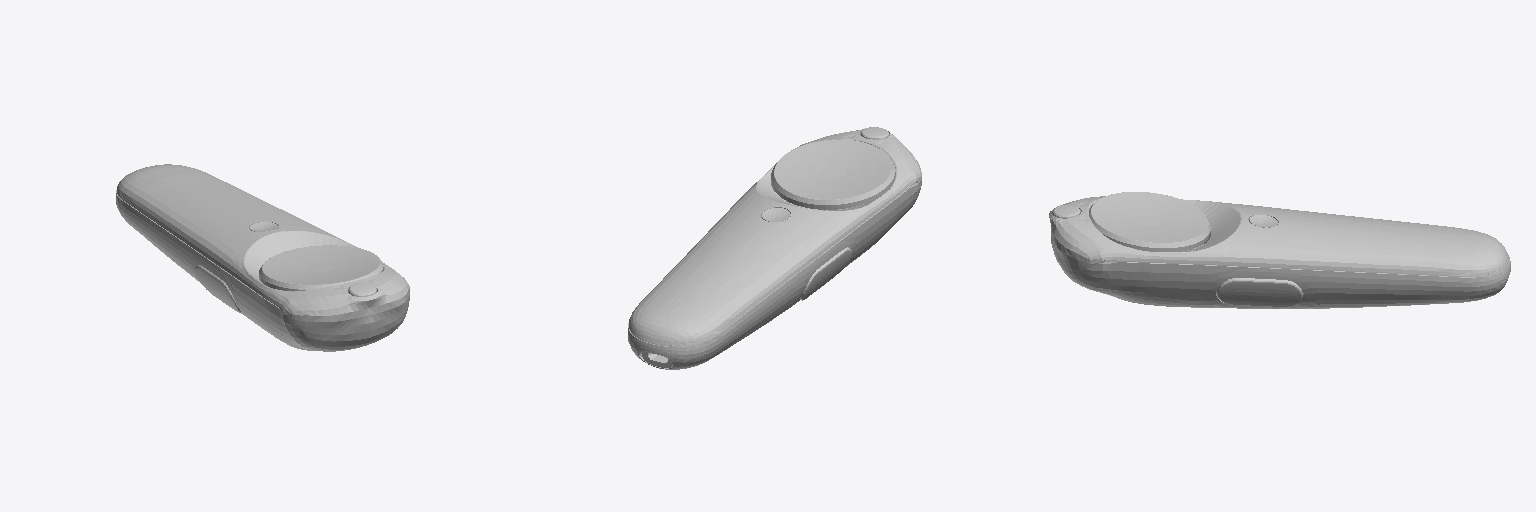
Rendered from ControllerBase_v1_5.obj.
3 renders of one model, left to right at view 1: azimuth 30°, elevation 25°; view 2: azimuth 150°, elevation 25°; view 3: azimuth 270°, elevation 25°, orthographic.
Parts seen in each view (by area): view 1: ControllerBase_v1_5; view 2: ControllerBase_v1_5; view 3: ControllerBase_v1_5.
Part boxes in pixels (bbox=[...]): ControllerBase_v1_5: bbox=[116, 164, 409, 351]; ControllerBase_v1_5: bbox=[628, 127, 921, 369]; ControllerBase_v1_5: bbox=[1049, 192, 1510, 308].
Bounding box in the file's own units: 48.54 × 35.36 × 159.